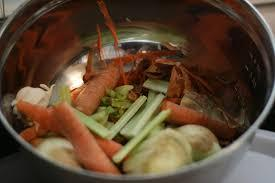Organic: (15, 22, 266, 179)
